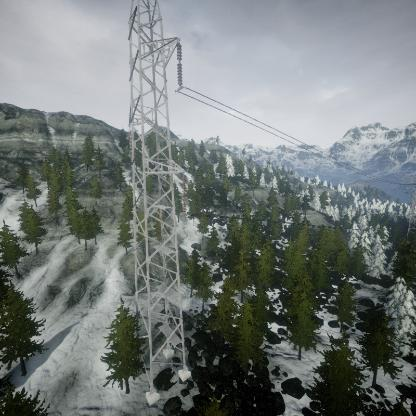insulator: (174, 42, 185, 88)
tower: (123, 0, 194, 405)
